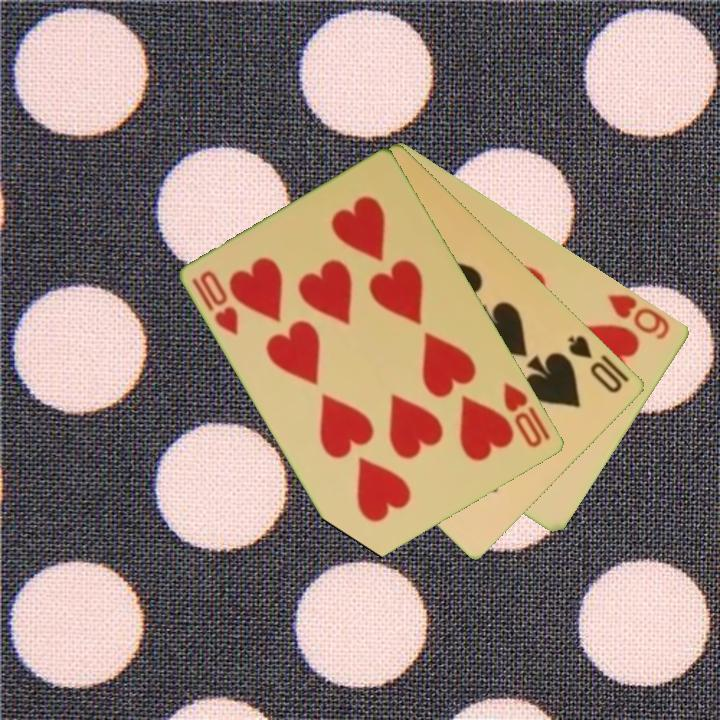10h: (500, 379, 554, 451), (188, 267, 242, 338)
10s: (564, 331, 626, 396)
6h: (604, 290, 673, 343)
